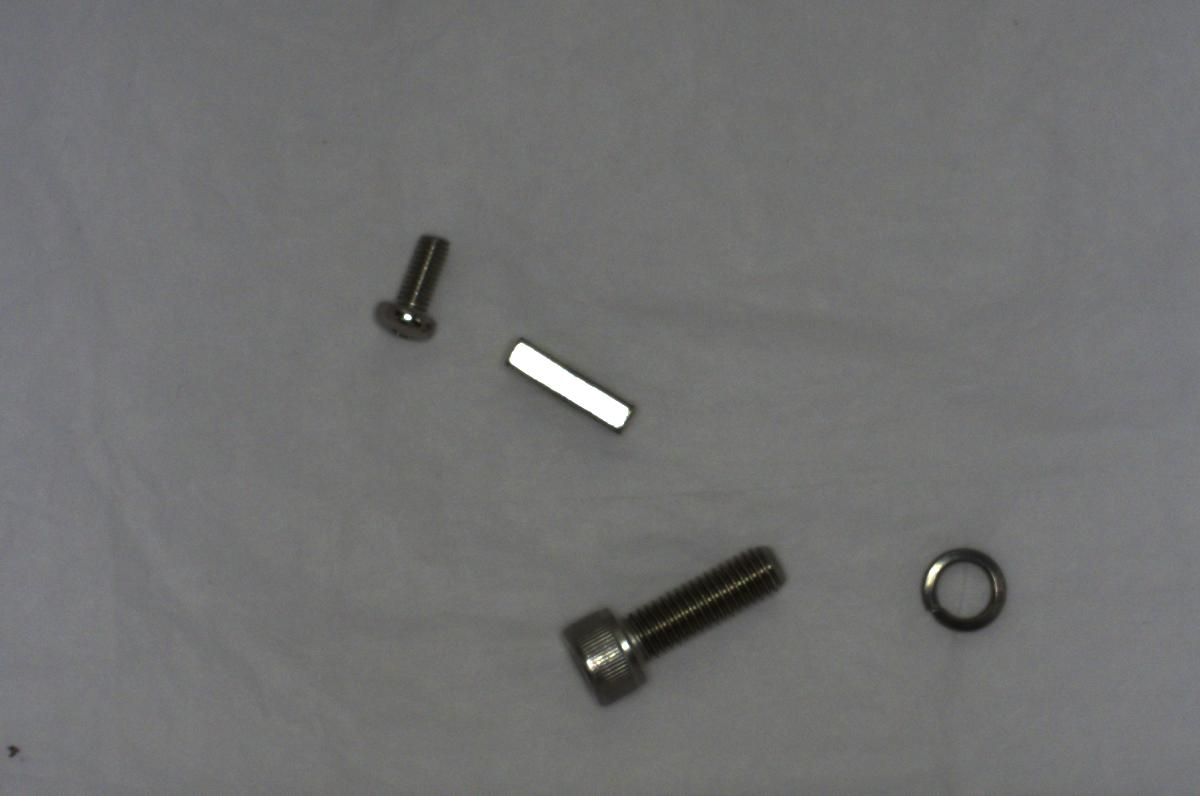Hexagon screw: (530, 536, 780, 722)
Rectangular nut: (498, 330, 632, 443)
Round head screw: (368, 219, 452, 345)
Spring washer: (902, 535, 1017, 645)
